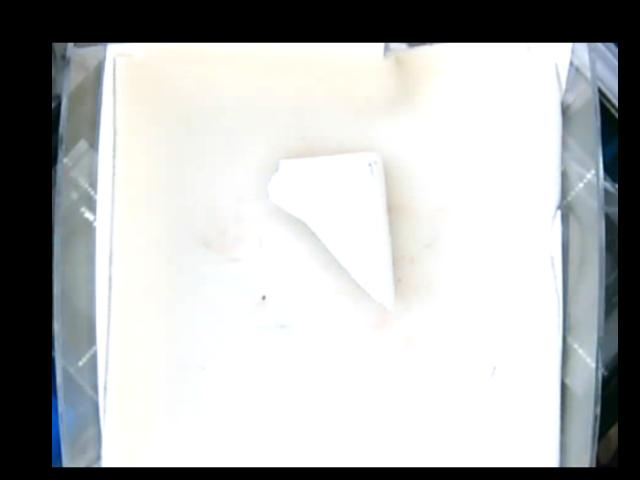China: (267, 153, 395, 310)
